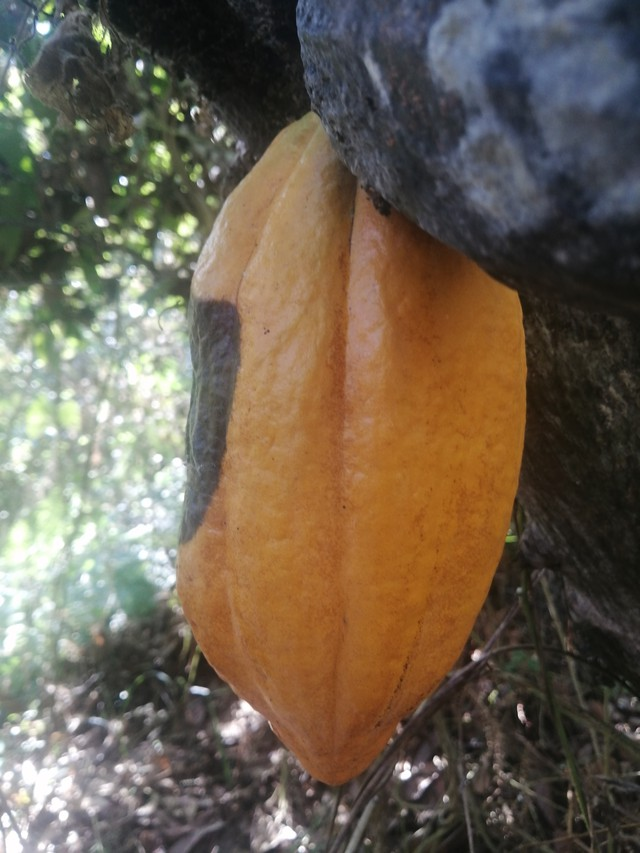moniliophthora roreri: (140, 86, 550, 796)
